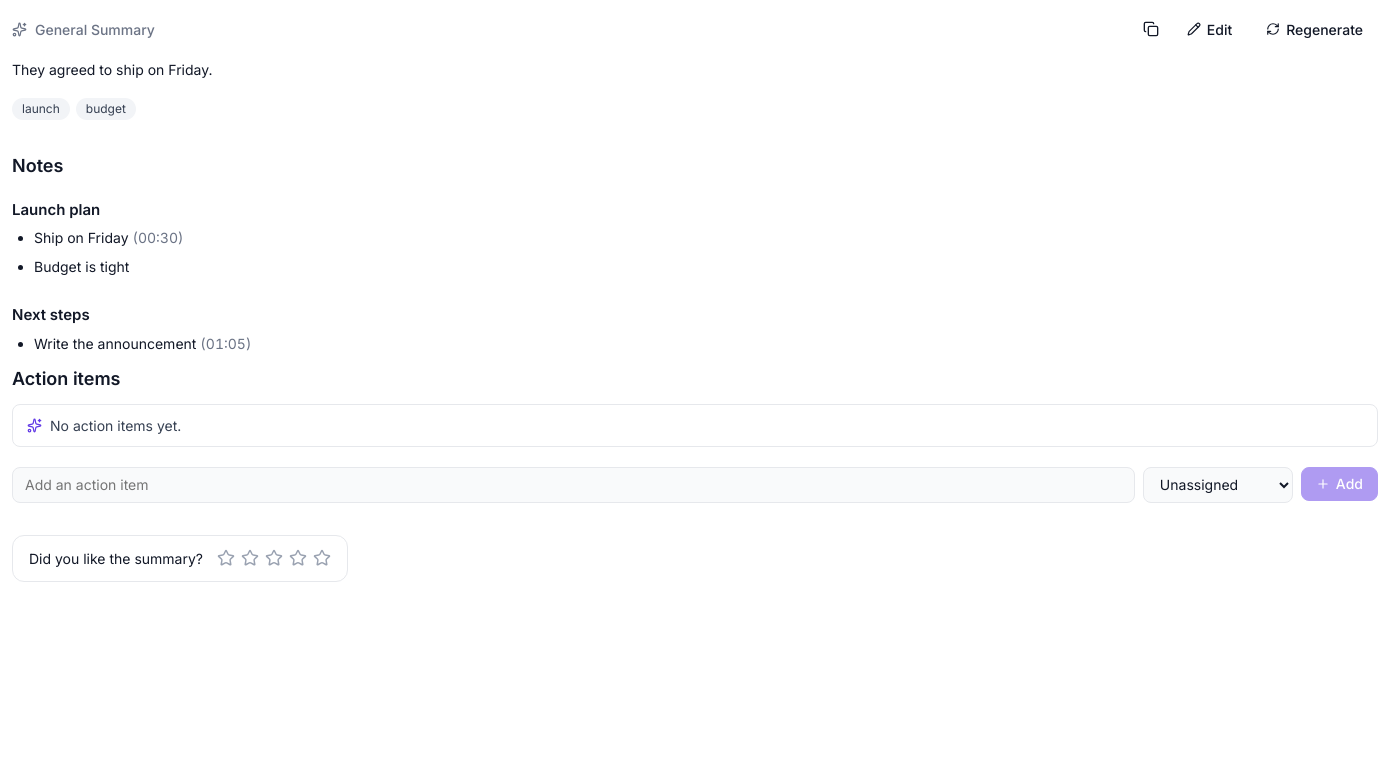
Scenario: NotesPanel › editing › saves only what changed, then refreshes
Click the button "Edit". click: coordinates (1210, 29)
box: [1172,12,1247,46]
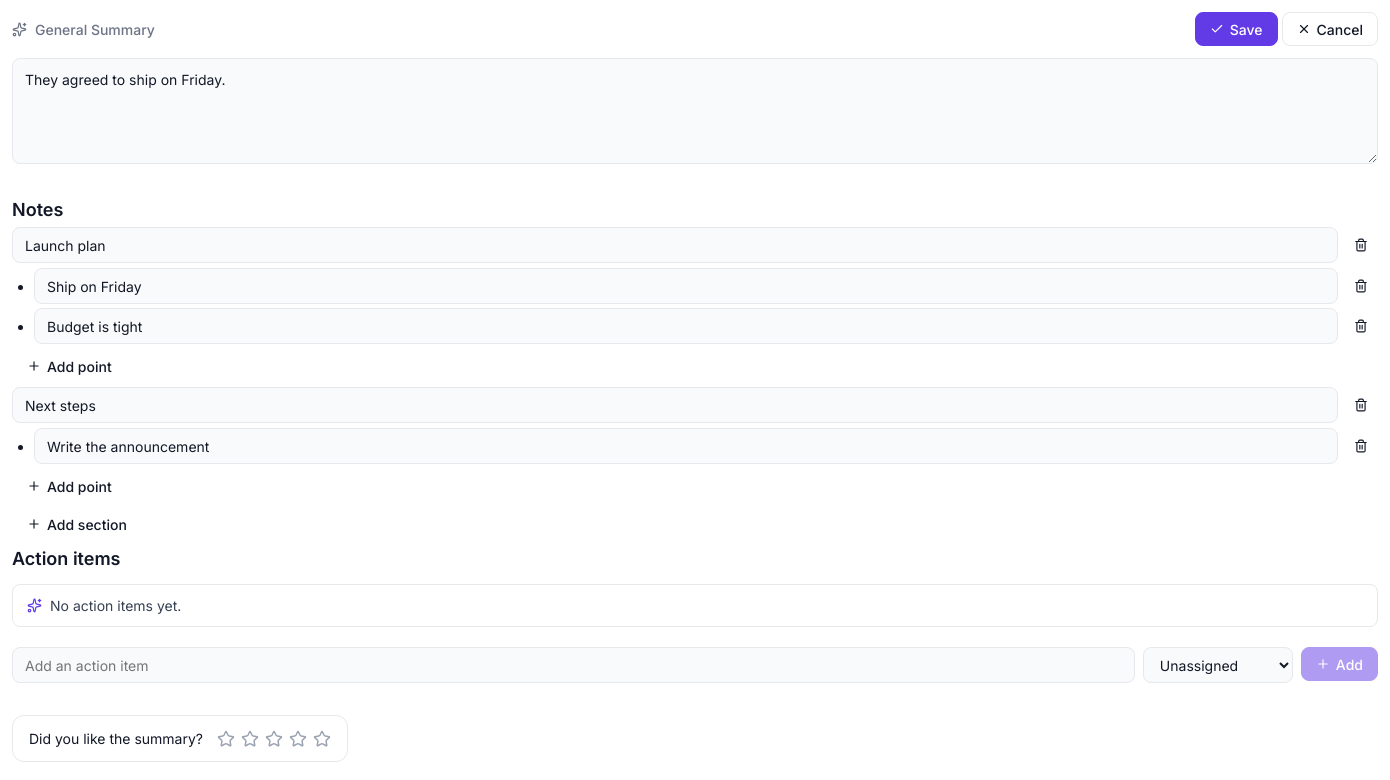
Replace the text in the text box named "Summary text" with "A new overview.". click: coordinates (695, 111)
box: [12,58,1378,164]
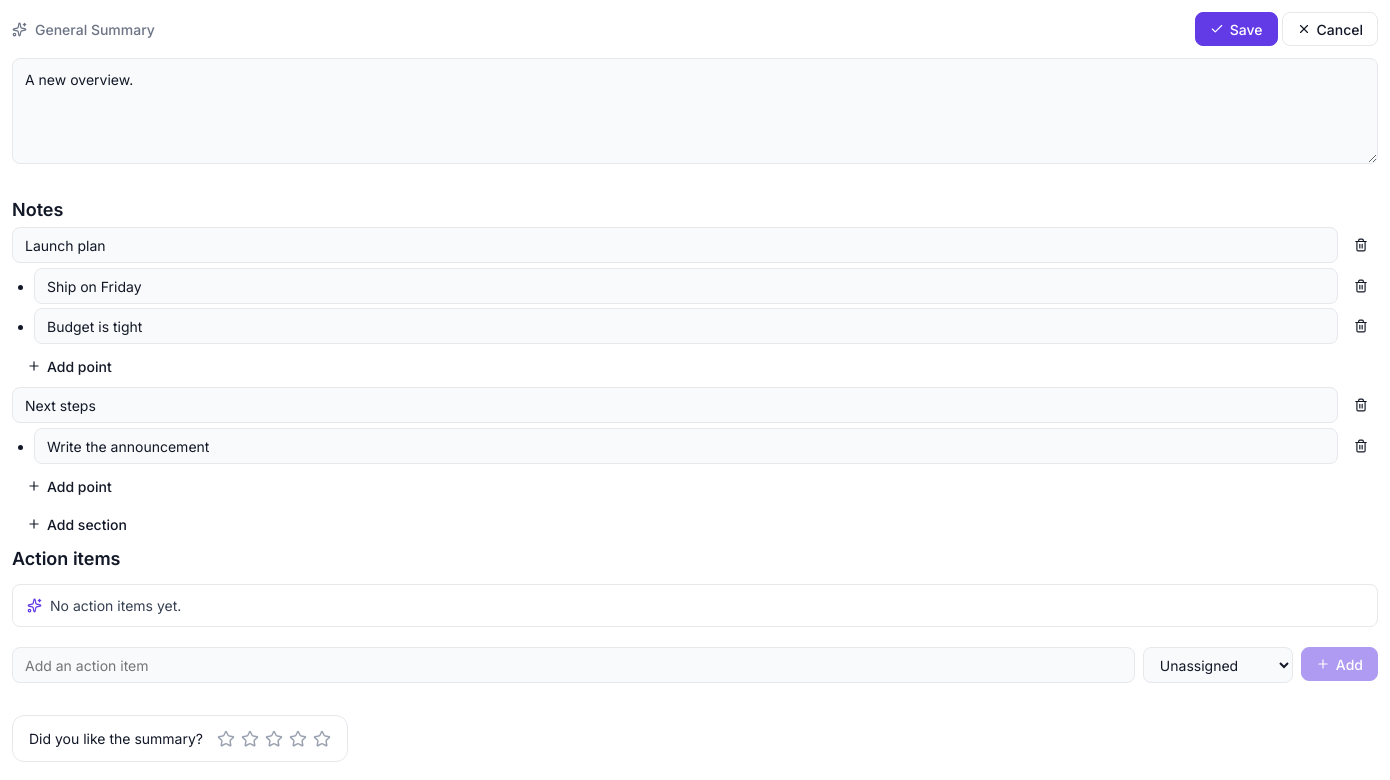
Replace the text in the field named "Note: Ship on Friday" with "Ship on Thursday". click: coordinates (686, 286)
box: [34,268,1338,304]
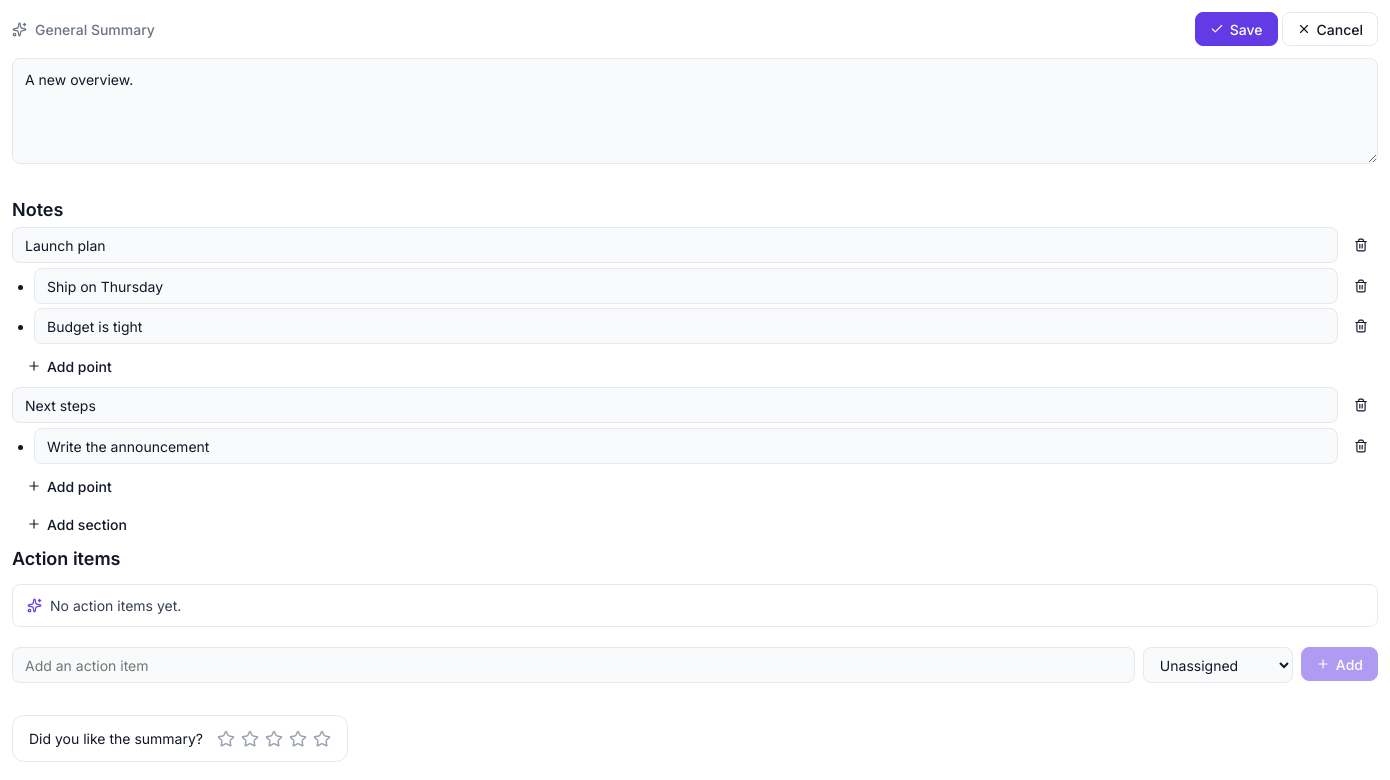
Click the button "Save". click: coordinates (1236, 29)
box: [1195,12,1278,46]
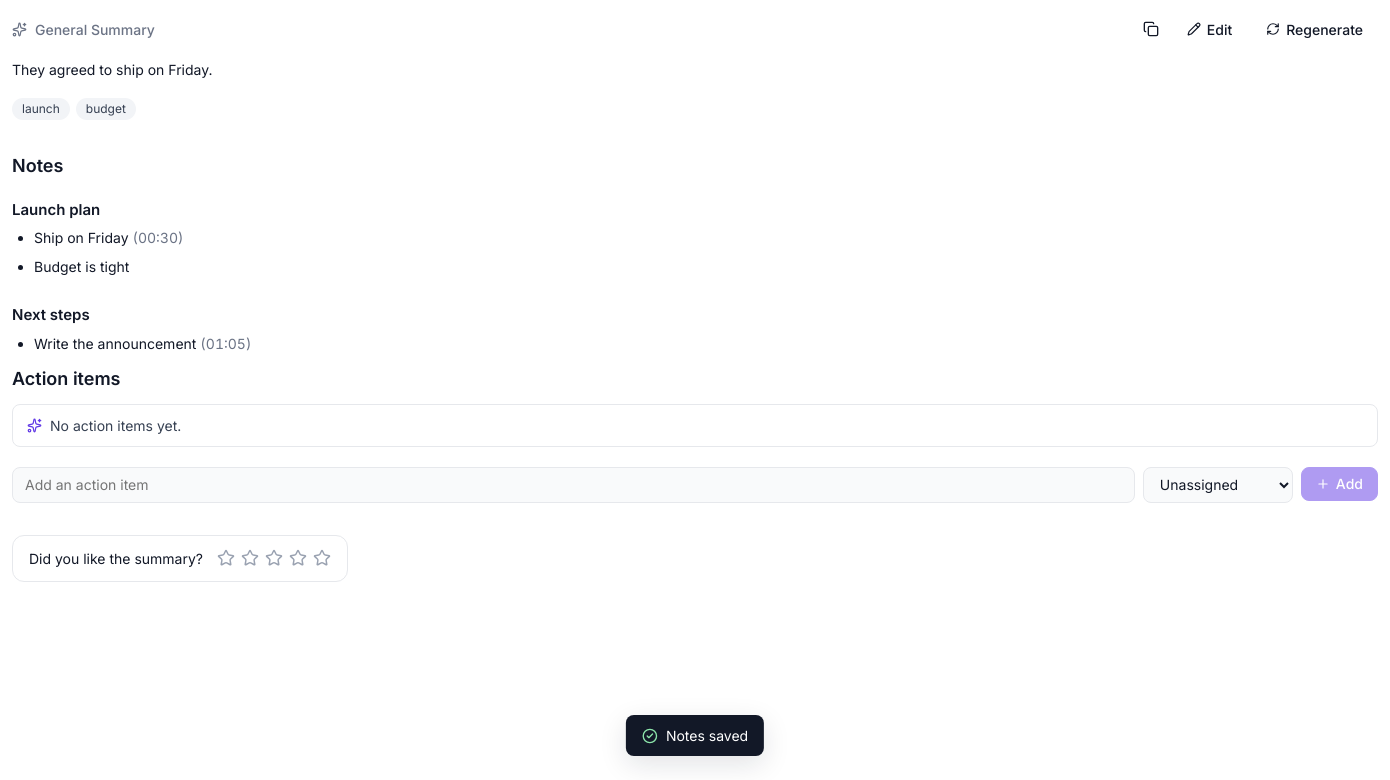
Expected: the text "Notes saved" is shown, [626,715,764,756]
